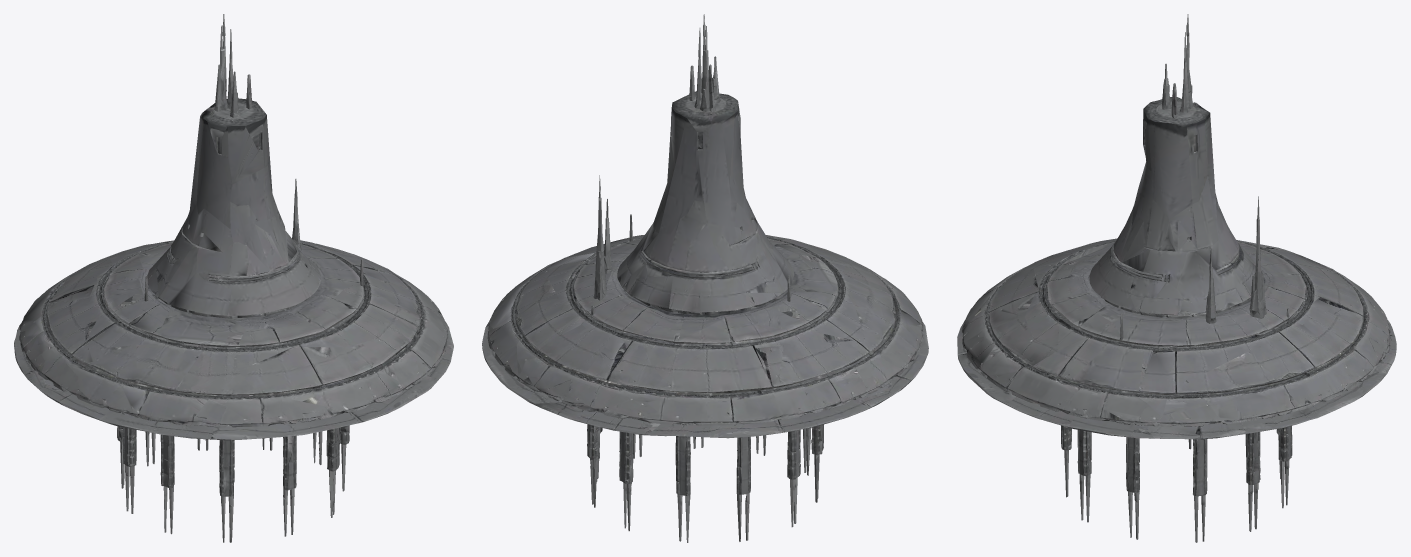
File: tipoca.lod1.glb
3 renders of one model, left to right at view 1: azimuth 30°, elevation 25°; view 2: azimuth 150°, elevation 25°; view 3: azimuth 270°, elevation 25°, orthographic.
Parts seen in each view (by area): view 1: tipoca-centred; view 2: tipoca-centred; view 3: tipoca-centred.
Boxes of the visible parts, left/top/right/bottom form: tipoca-centred: left=14, top=14, right=453, bottom=542; tipoca-centred: left=482, top=14, right=928, bottom=542; tipoca-centred: left=957, top=14, right=1396, bottom=542.
Size of the model in its own units: 53.22 by 64 by 53.16.
1 material, 1 textured.
